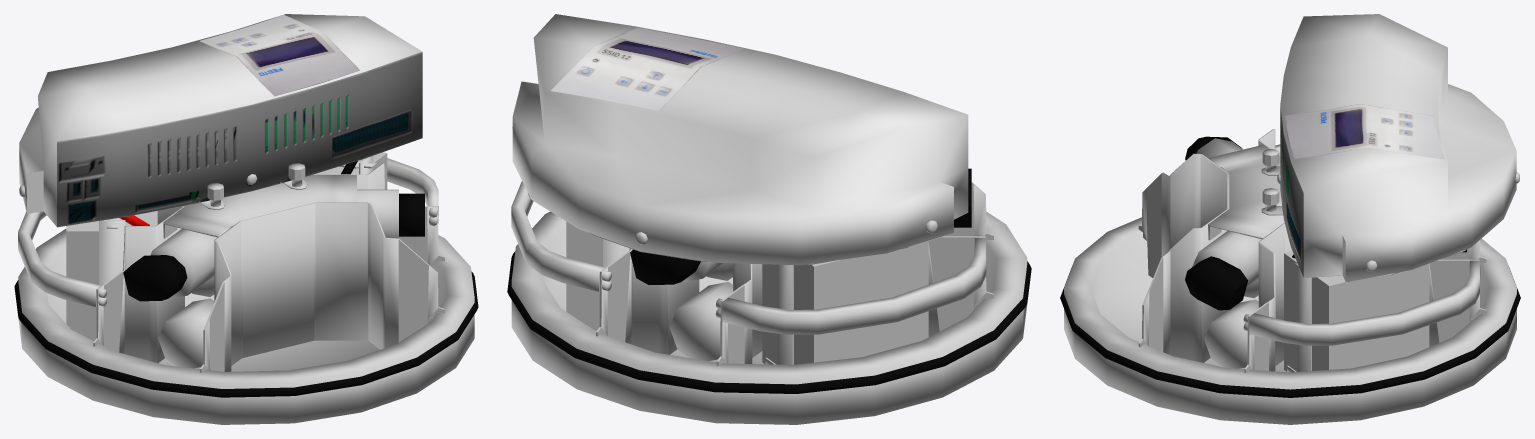
File: robotino_base.dae
3 renders of one model, left to right at view 1: azimuth 30°, elevation 25°; view 2: azimuth 150°, elevation 25°; view 3: azimuth 270°, elevation 25°, orthographic. The views are drawn at different scales.
Visible parts, largest first — view 1: Mesh_003, Mesh_050, Mesh_018, Mesh_036, Mesh_042, Mesh_019, Mesh_049, Mesh_005, Mesh_033, Mesh_037, Mesh_045, Mesh_004 (+6 smaller); view 2: Mesh_003, Mesh_050, Mesh_005, Mesh_036, Mesh_033, Mesh_042, Mesh_049, Mesh_038, Mesh_035, Mesh_041, Mesh_017, Mesh_012 (+2 smaller); view 3: Mesh_003, Mesh_050, Mesh_018, Mesh_017, Mesh_036, Mesh_038, Mesh_035, Mesh_049, Mesh_019, Mesh_032, Mesh_026, Mesh_046 (+3 smaller).
Part boxes in pixels (x1=…): Mesh_003: x1=19, y1=14, x2=422, y2=227; Mesh_050: x1=18, y1=229, x2=474, y2=424; Mesh_018: x1=200, y1=202, x2=444, y2=372; Mesh_036: x1=199, y1=14, x2=359, y2=96; Mesh_042: x1=93, y1=206, x2=184, y2=362; Mesh_019: x1=163, y1=175, x2=356, y2=238; Mesh_049: x1=14, y1=271, x2=478, y2=397; Mesh_005: x1=66, y1=211, x2=157, y2=341; Mesh_033: x1=18, y1=211, x2=100, y2=306; Mesh_037: x1=158, y1=298, x2=214, y2=368; Mesh_045: x1=150, y1=229, x2=217, y2=298; Mesh_004: x1=123, y1=255, x2=187, y2=301; Mesh_003: x1=512, y1=14, x2=968, y2=265; Mesh_050: x1=511, y1=211, x2=1027, y2=424; Mesh_005: x1=762, y1=241, x2=928, y2=364; Mesh_036: x1=550, y1=27, x2=743, y2=110; Mesh_033: x1=722, y1=237, x2=986, y2=334; Mesh_042: x1=716, y1=236, x2=993, y2=365; Mesh_049: x1=507, y1=251, x2=1031, y2=393; Mesh_038: x1=596, y1=248, x2=699, y2=354; Mesh_035: x1=511, y1=181, x2=604, y2=291; Mesh_041: x1=669, y1=282, x2=732, y2=361; Mesh_017: x1=566, y1=221, x2=602, y2=330; Mesh_012: x1=630, y1=249, x2=700, y2=284; Mesh_003: x1=1280, y1=14, x2=1516, y2=282; Mesh_050: x1=1064, y1=217, x2=1516, y2=424; Mesh_018: x1=1138, y1=153, x2=1229, y2=362; Mesh_017: x1=1284, y1=251, x2=1429, y2=371; Mesh_036: x1=1284, y1=104, x2=1445, y2=159; Mesh_038: x1=1244, y1=223, x2=1486, y2=372; Mesh_035: x1=1249, y1=260, x2=1480, y2=345; Mesh_049: x1=1060, y1=268, x2=1520, y2=397; Mesh_019: x1=1208, y1=144, x2=1284, y2=240; Mesh_032: x1=1185, y1=256, x2=1248, y2=310; Mesh_026: x1=1204, y1=299, x2=1258, y2=368; Mesh_046: x1=1192, y1=231, x2=1261, y2=286.
Bounding box in the file's own units: 35.8 × 35.8 × 20.34.
9 materials, 2 textured.
